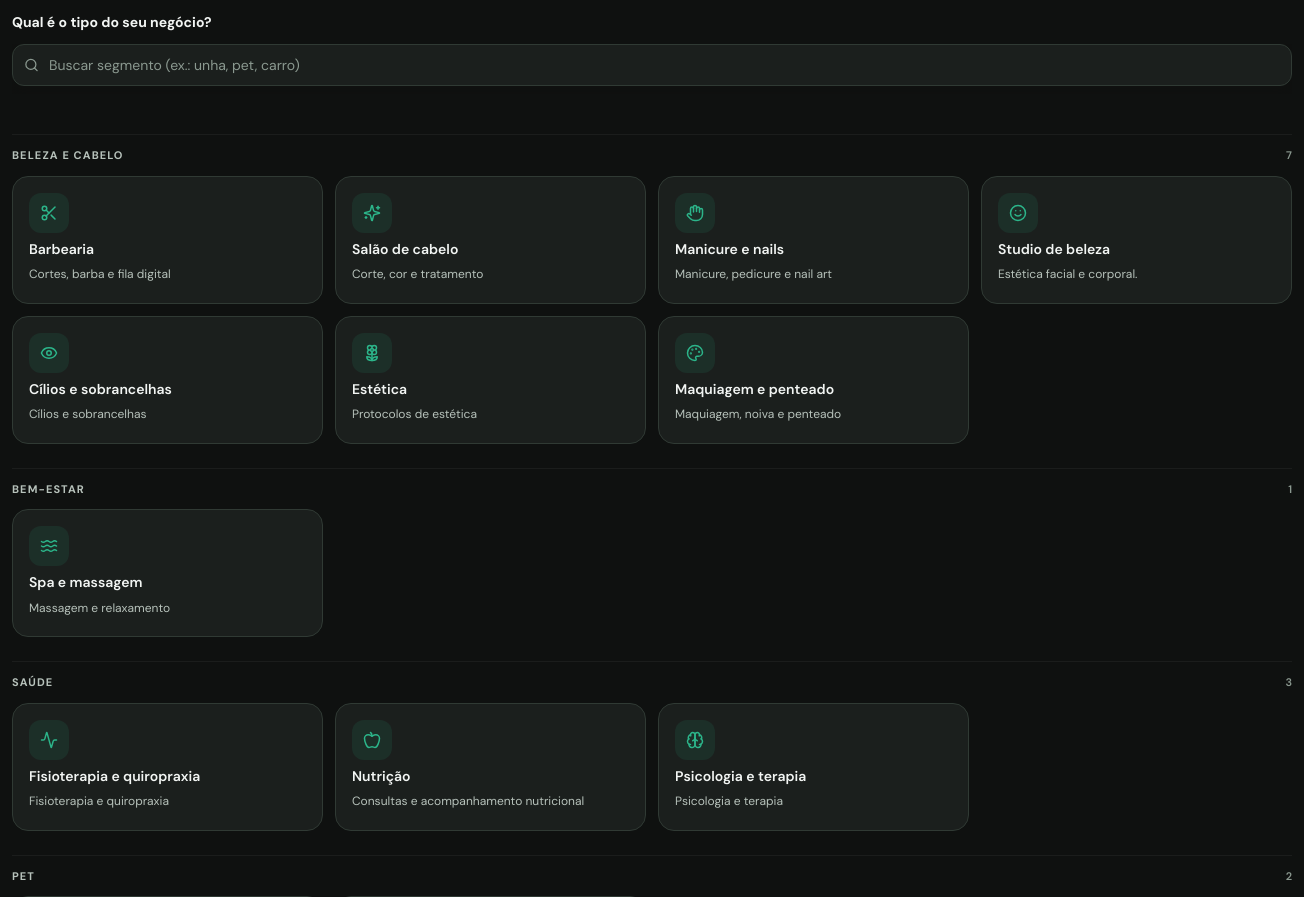
Test case: SegmentPicker › busca sem resultado avisa e só resta "Outro"
Type "zzzz" into the search field.
click(652, 65); type("zzzz")  # box [12,44,1292,86]
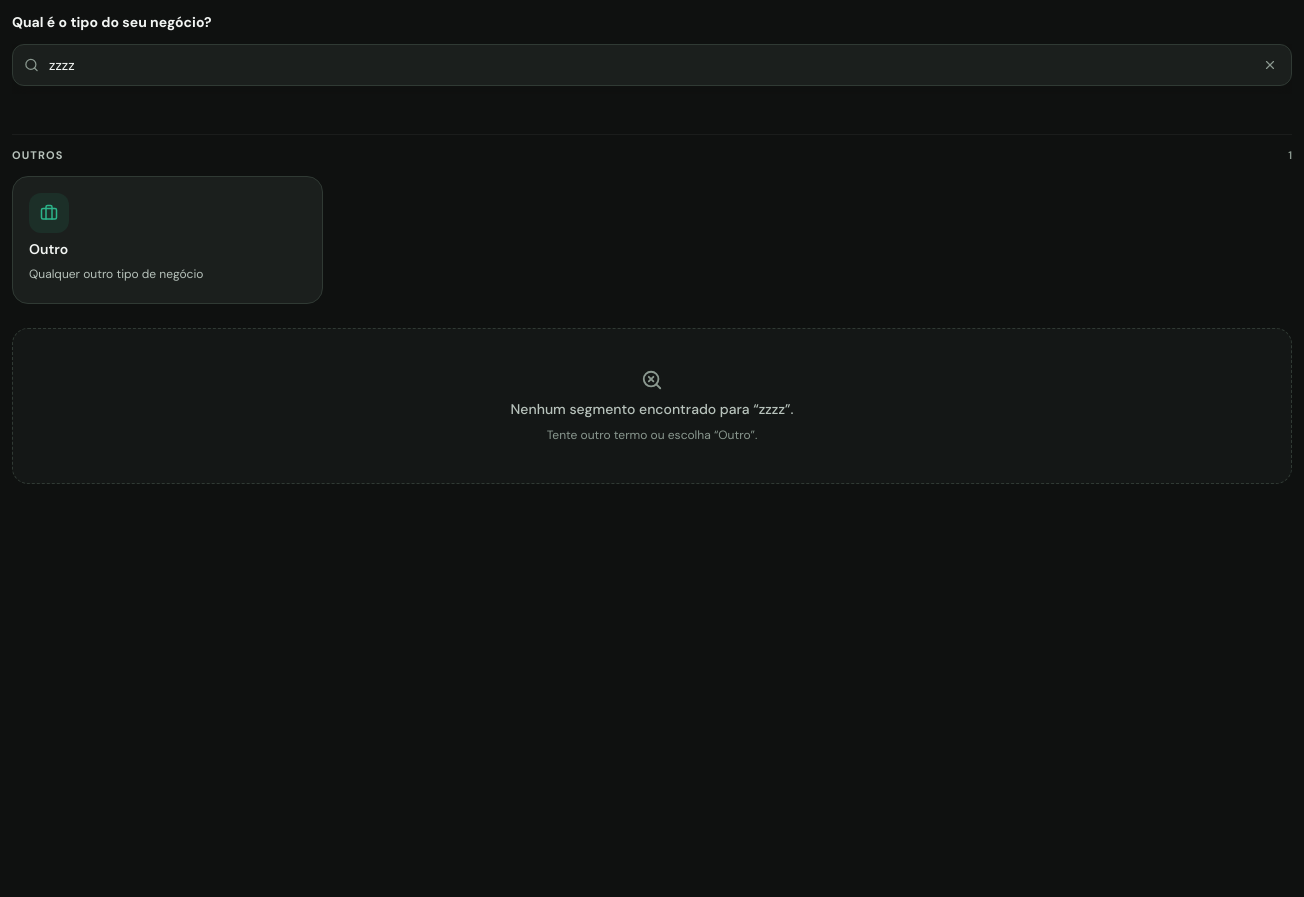
Expected: the text "Nenhum segmento encontrado para “zzzz”." is shown, [510,398,794,418]
Expected: the number of radio buttons is 1, [12,176,323,304]
